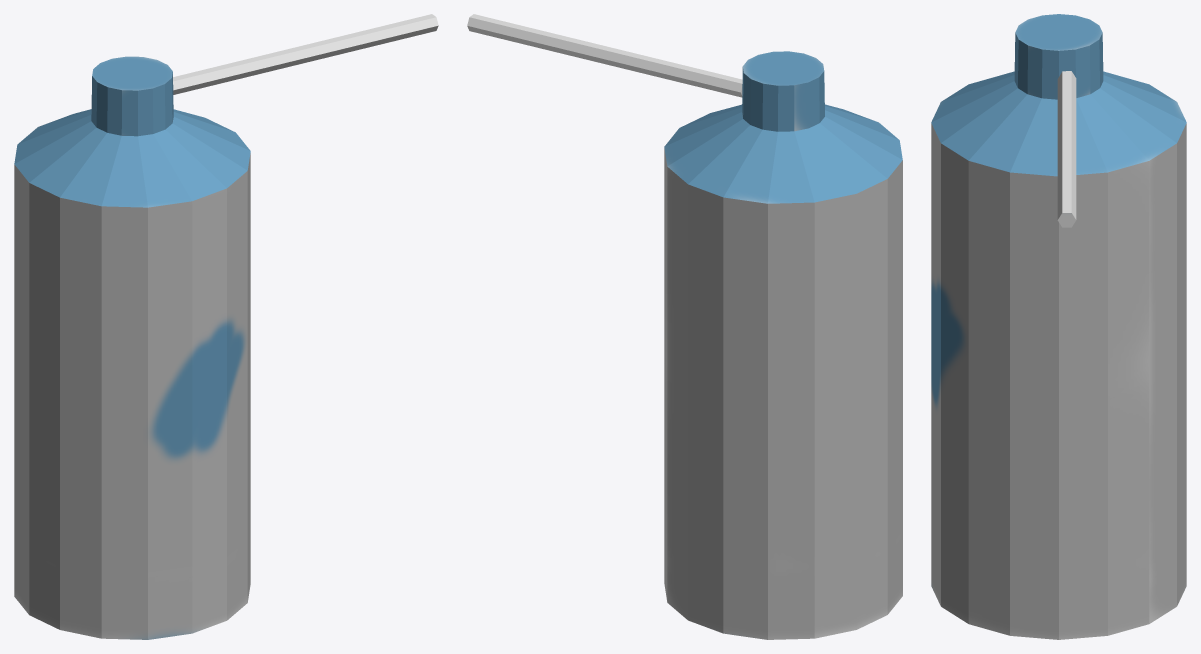
File: spraycan.fbx
3 views of the same model, side by side, from view 1: azimuth 30°, elevation 25°; view 2: azimuth 150°, elevation 25°; view 3: azimuth 270°, elevation 25° (orthographic). The views are drawn at different scales.
Parts seen in each view (by area): view 1: Cylinder; view 2: Cylinder; view 3: Cylinder.
Part boxes in pixels (x1,y1,x2,y2): Cylinder: (14, 14, 438, 639); Cylinder: (467, 14, 902, 639); Cylinder: (931, 14, 1186, 639).
Size of the model in its own units: 198 by 239 by 100.
1 material, 1 textured.
